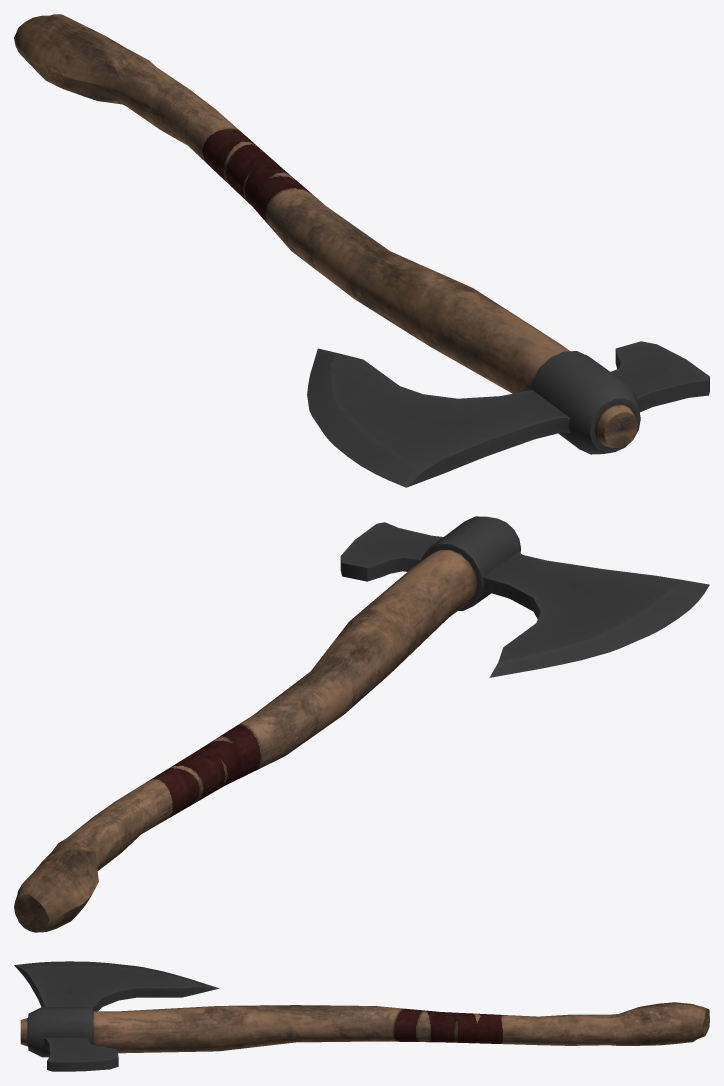
Rendered from Axe.fbx.
The picture shows the model from 3 angles, top to bottom: view 1: azimuth 30°, elevation 25°; view 2: azimuth 150°, elevation 25°; view 3: azimuth 270°, elevation 25°; orthographic projection. The views are drawn at different scales.
Parts seen in each view (by area): view 1: LowAxe; view 2: LowAxe; view 3: LowAxe.
Part boxes in pixels (box(x1,y1,x2,y2)): LowAxe: box(14, 14, 709, 487); LowAxe: box(14, 516, 709, 932); LowAxe: box(14, 961, 709, 1071).
Bounding box in the file's own units: 45.23 × 9.18 × 126.
